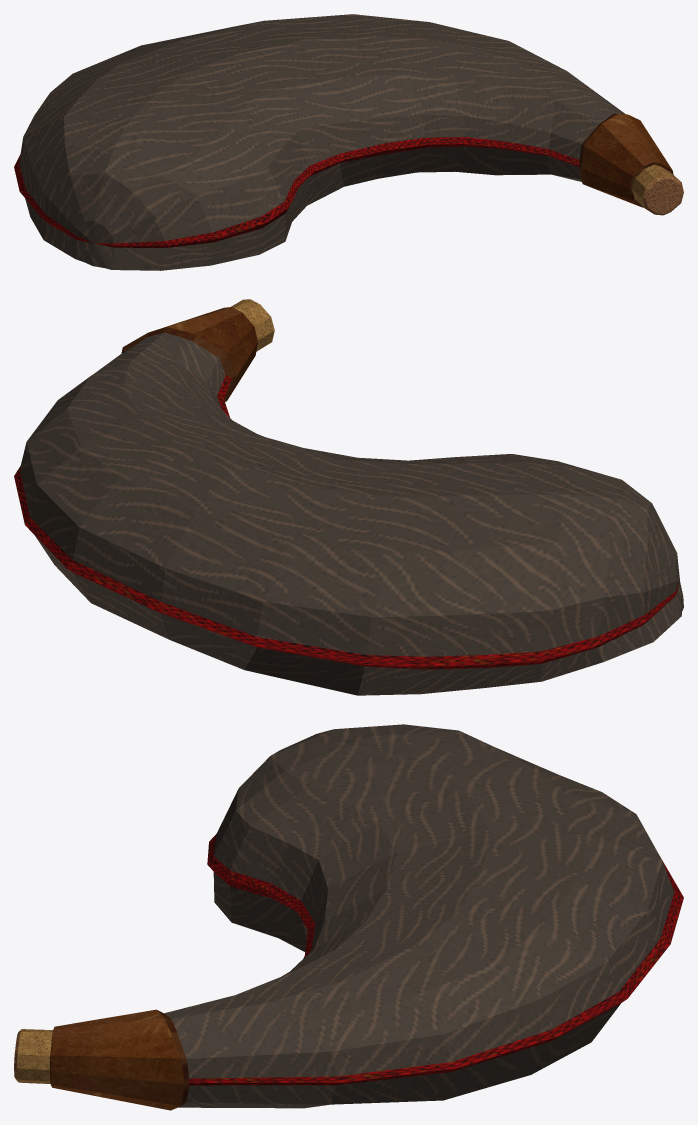
The model's file is WorldItem_QualityWaterskin.fbx.
3 renders of one model, top to bottom at view 1: azimuth 30°, elevation 25°; view 2: azimuth 150°, elevation 25°; view 3: azimuth 270°, elevation 25°, orthographic. The views are drawn at different scales.
Visible parts, largest first — view 1: ZomboidQualityWaterskin; view 2: ZomboidQualityWaterskin; view 3: ZomboidQualityWaterskin.
Boxes of the visible parts, <box> form: ZomboidQualityWaterskin: <box>14,14,683,270</box>; ZomboidQualityWaterskin: <box>14,299,683,695</box>; ZomboidQualityWaterskin: <box>14,724,683,1110</box>.
Size of the model in its own units: 0.2001 by 0.0379 by 0.1796.
